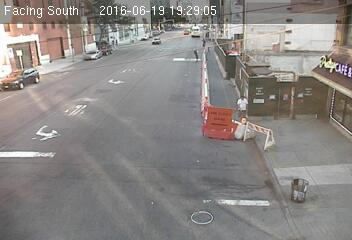neg: (59, 66, 82, 97), (194, 51, 211, 75)
pos: (232, 94, 255, 125)
